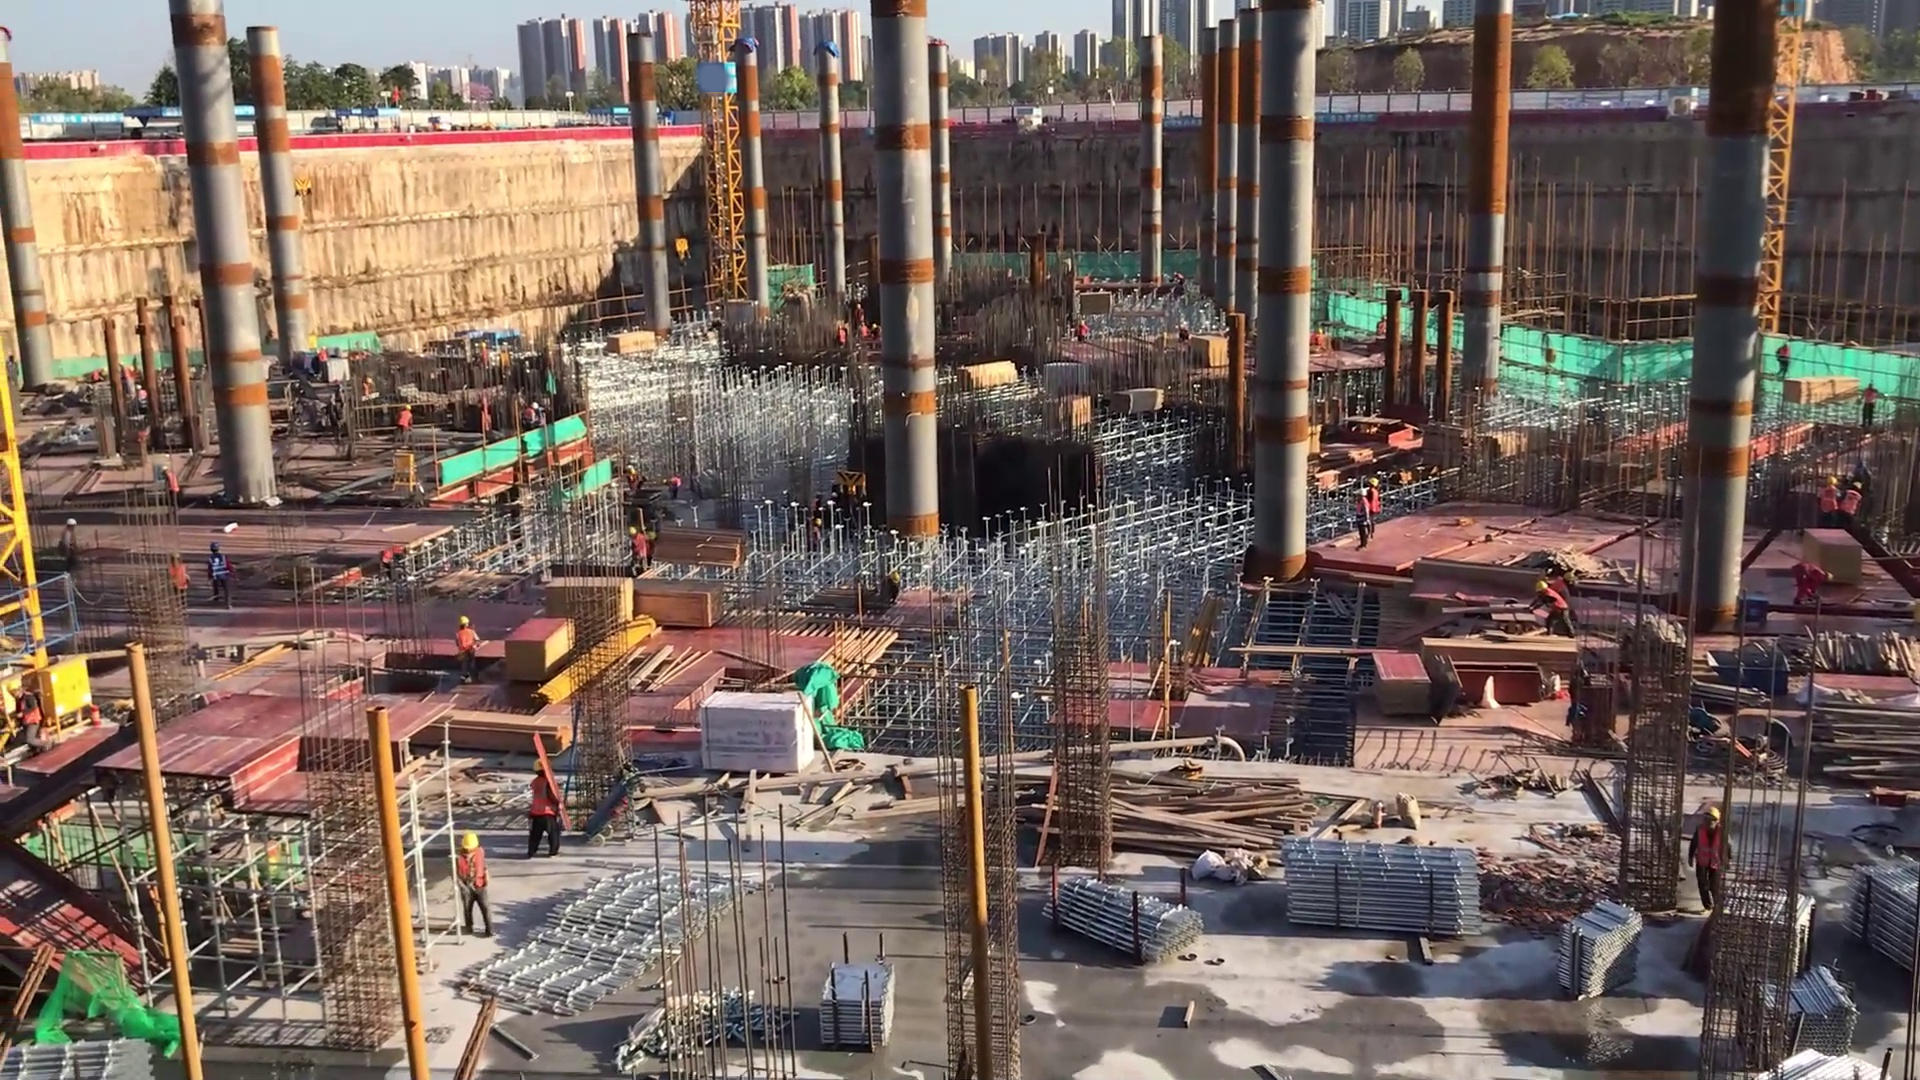helmet: (1699, 803, 1725, 833), (1842, 489, 1864, 517), (1821, 483, 1840, 515), (459, 830, 481, 856), (1804, 559, 1824, 588), (9, 678, 26, 701), (532, 755, 554, 773), (1821, 473, 1848, 488), (1821, 569, 1840, 588), (209, 541, 223, 557), (1536, 577, 1550, 594), (459, 615, 469, 631), (1355, 488, 1367, 502), (160, 464, 173, 476), (627, 525, 639, 537), (1366, 475, 1380, 487), (529, 400, 540, 412), (67, 518, 78, 530), (1564, 572, 1576, 583), (403, 404, 416, 413)
person: (1685, 799, 1734, 915), (445, 826, 495, 933), (520, 752, 569, 857), (7, 674, 54, 768), (446, 610, 494, 691), (1530, 571, 1579, 643), (201, 540, 243, 621), (625, 519, 658, 592), (1856, 369, 1884, 442), (1795, 558, 1832, 609), (387, 404, 425, 448), (379, 537, 416, 579), (1841, 474, 1866, 536), (1366, 469, 1388, 538), (1352, 475, 1372, 551), (56, 517, 85, 569), (1820, 470, 1843, 530), (1192, 335, 1231, 366), (171, 556, 192, 608), (161, 462, 182, 513), (524, 397, 548, 435), (1776, 338, 1795, 379), (622, 464, 642, 498), (659, 477, 683, 503), (1375, 312, 1389, 343), (1075, 320, 1090, 343), (855, 301, 865, 328), (836, 325, 847, 352), (870, 322, 883, 343)
vest: (1689, 826, 1729, 873), (456, 849, 490, 890), (528, 774, 558, 817), (1539, 588, 1570, 619), (453, 626, 480, 659), (206, 555, 234, 582), (393, 407, 414, 431)
